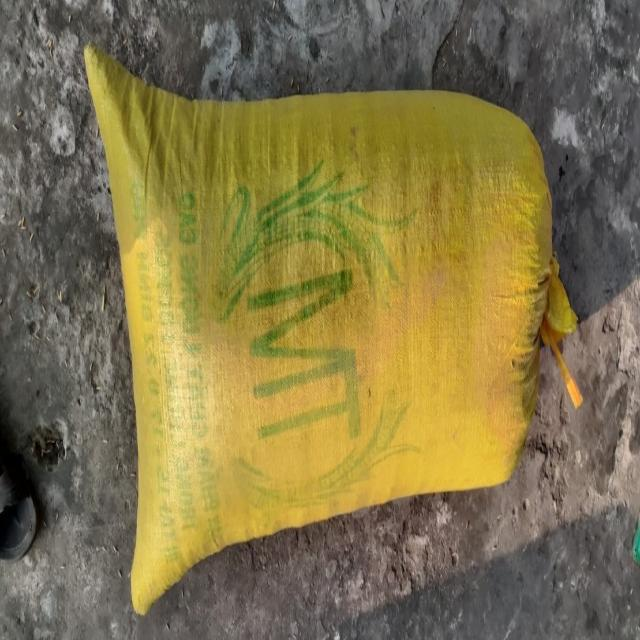gunny_bag: (84, 46, 574, 614)
